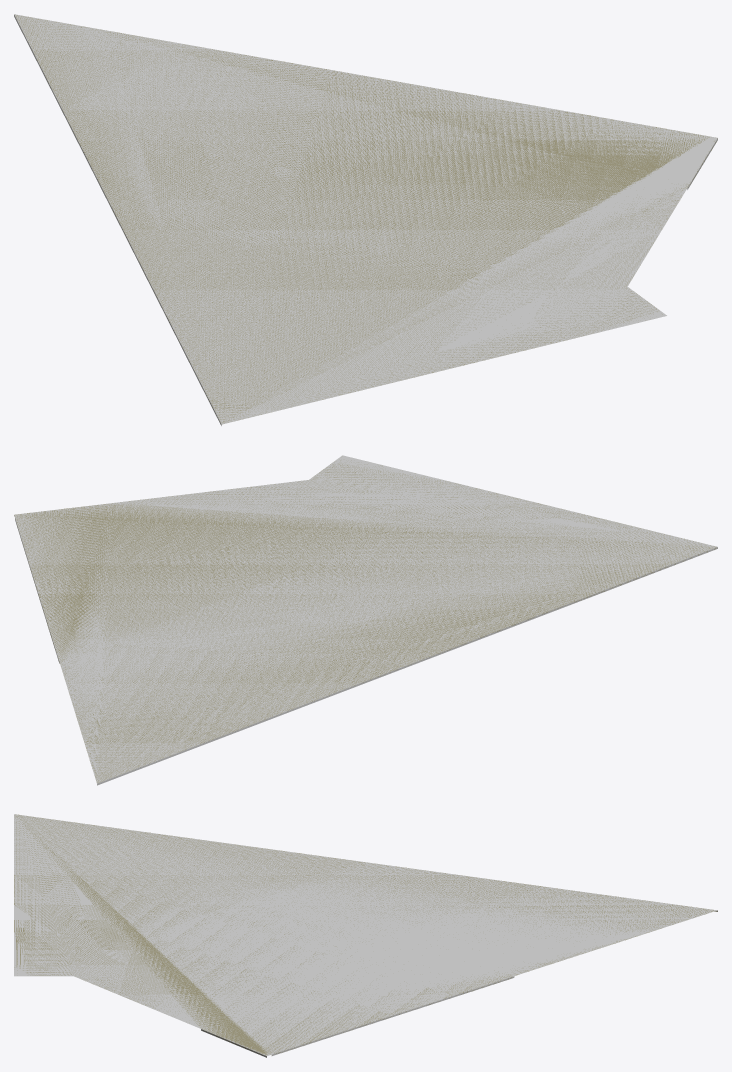
File: pool_boards.obj
3 renders of one model, top to bottom at view 1: azimuth 30°, elevation 25°; view 2: azimuth 150°, elevation 25°; view 3: azimuth 270°, elevation 25°, orthographic. The views are drawn at different scales.
Parts seen in each view (by area): view 1: Mesh1 Group1 Model; view 2: Mesh1 Group1 Model; view 3: Mesh1 Group1 Model.
Part boxes in pixels (box(x1,y1,x2,y2)): Mesh1 Group1 Model: box(14, 14, 717, 425); Mesh1 Group1 Model: box(14, 455, 717, 785); Mesh1 Group1 Model: box(14, 814, 717, 1057).
Size of the model in its own units: 15.8 by 0.05 by 19.42.
